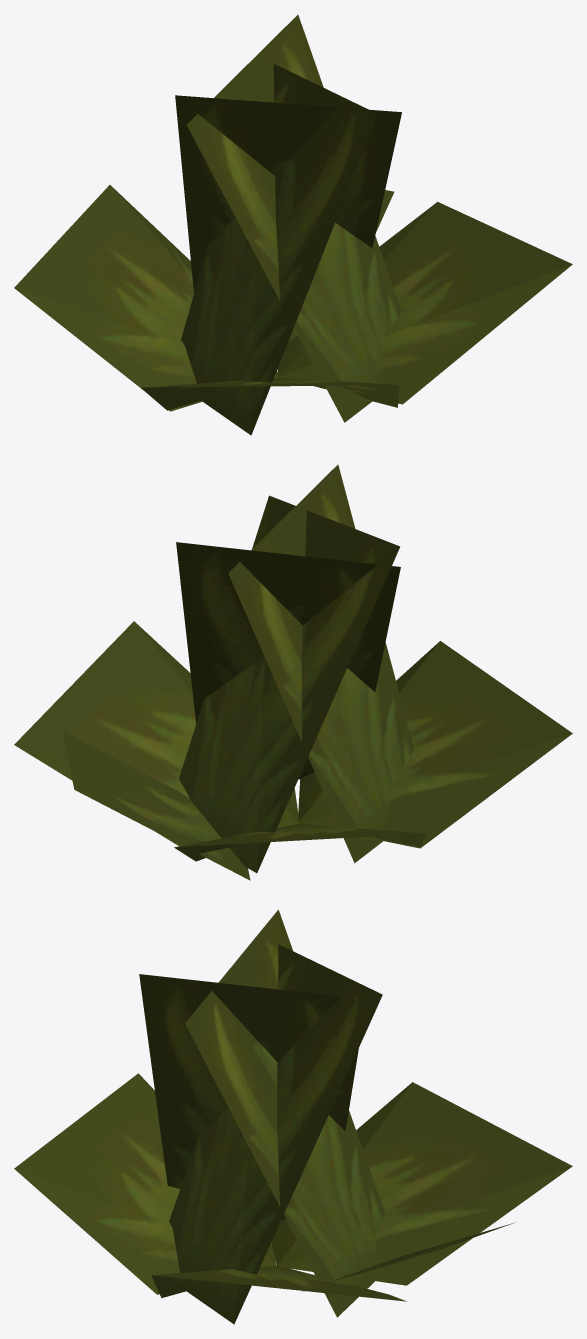
Rendered from grass_04.fbx.
3 views of the same model, one above another, from view 1: azimuth 30°, elevation 25°; view 2: azimuth 150°, elevation 25°; view 3: azimuth 270°, elevation 25° (orthographic).
Visible parts, largest first — view 1: obj0.035; view 2: obj0.035; view 3: obj0.035.
Boxes of the visible parts, bbox=[...] form: obj0.035: bbox=[14, 14, 572, 435]; obj0.035: bbox=[14, 464, 572, 880]; obj0.035: bbox=[14, 909, 572, 1324].
Size of the model in its own units: 1.48 by 0.9966 by 1.64.
